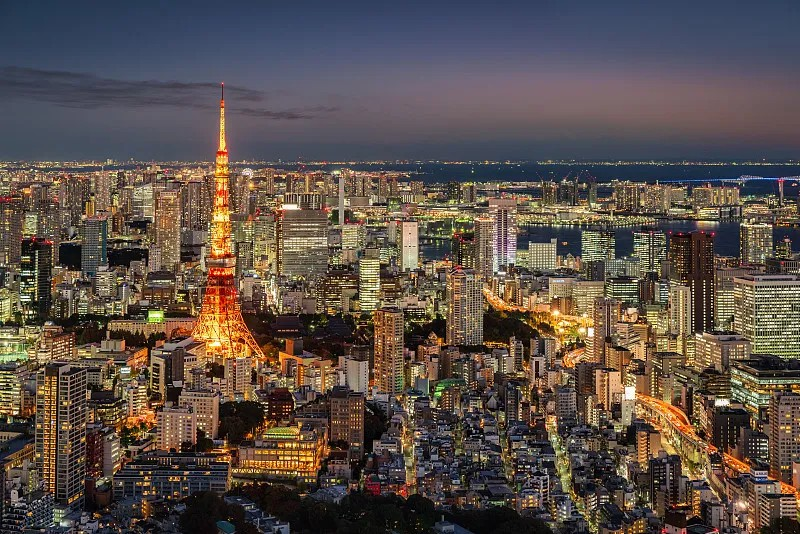Tokyo: (183, 81, 266, 361)
